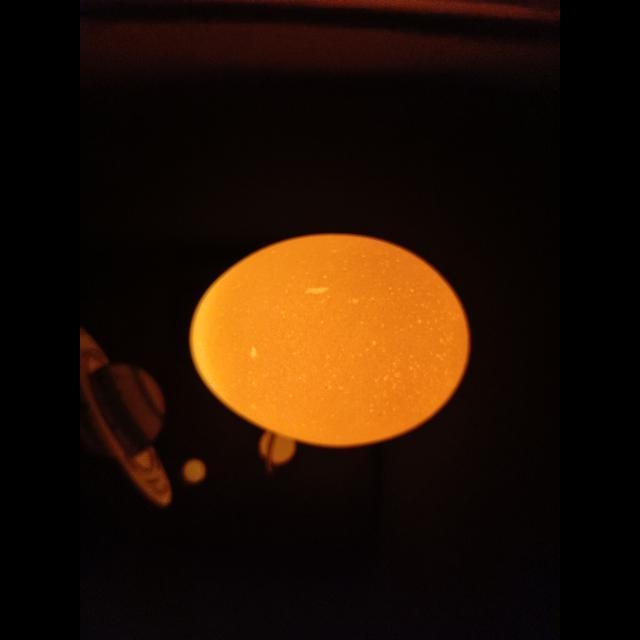AA - Premium: (190, 234, 470, 448)
